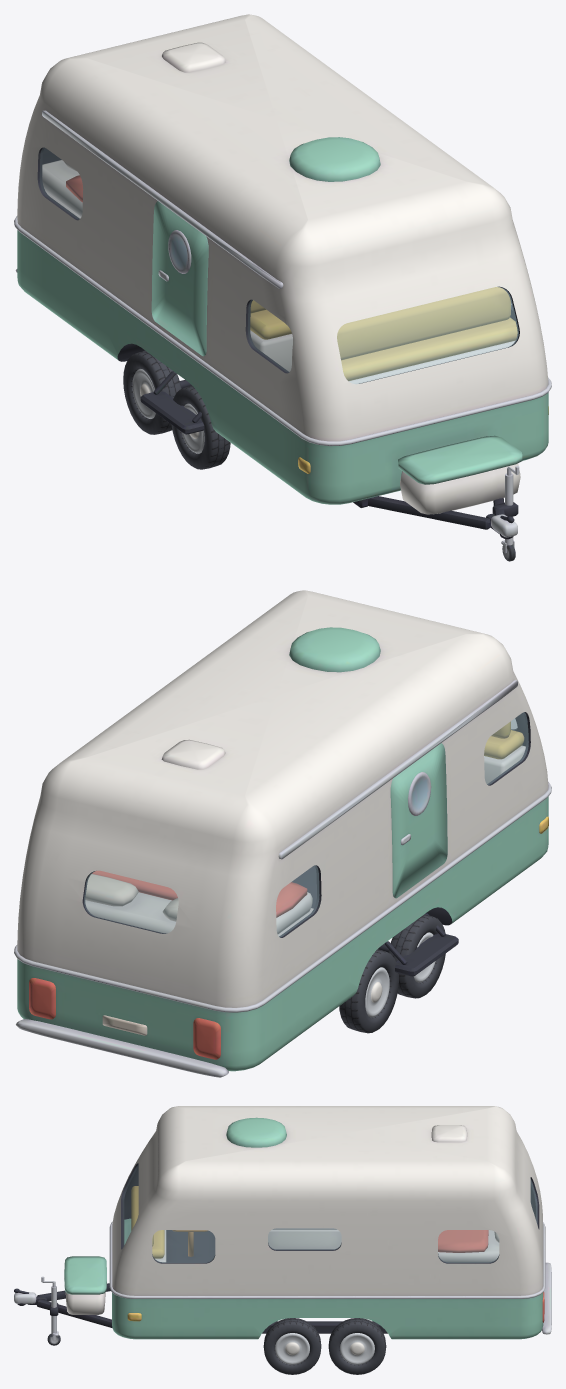
File: travel-trailer.glb
3 renders of one model, top to bottom at view 1: azimuth 30°, elevation 25°; view 2: azimuth 150°, elevation 25°; view 3: azimuth 270°, elevation 25°, orthographic. The views are drawn at different scales.
Parts seen in each view (by area): view 1: travel-trailer_body, travel-trailer_windows, travel-trailer_wheel_rr, travel-trailer_wheel_fr; view 2: travel-trailer_body, travel-trailer_windows, travel-trailer_wheel_rr, travel-trailer_wheel_fr; view 3: travel-trailer_body, travel-trailer_windows, travel-trailer_wheel_rl, travel-trailer_wheel_fl.
Part boxes in pixels (x1,y1,x2,y2): travel-trailer_body: (14,14,551,561); travel-trailer_windows: (40,147,518,383); travel-trailer_wheel_rr: (123,350,181,434); travel-trailer_wheel_fr: (171,385,230,469); travel-trailer_body: (14,590,551,1077); travel-trailer_windows: (84,712,528,937); travel-trailer_wheel_rr: (339,949,398,1033); travel-trailer_wheel_fr: (388,914,445,998); travel-trailer_body: (14,1106,551,1345); travel-trailer_windows: (123,1165,537,1262); travel-trailer_wheel_rl: (328,1318,386,1374); travel-trailer_wheel_fl: (263,1318,321,1374).
Size of the model in its own units: 2.35 by 2.64 by 6.14.
Materials: 18 (5 with a texture image).
